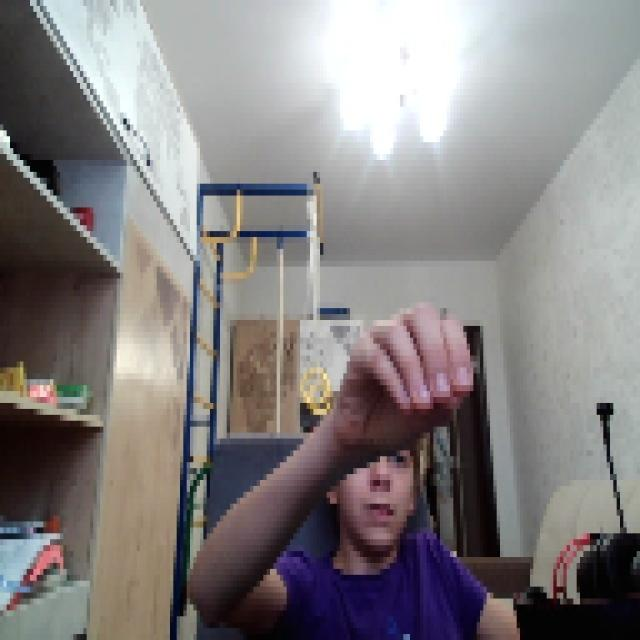left_click: (334, 296, 474, 451)
